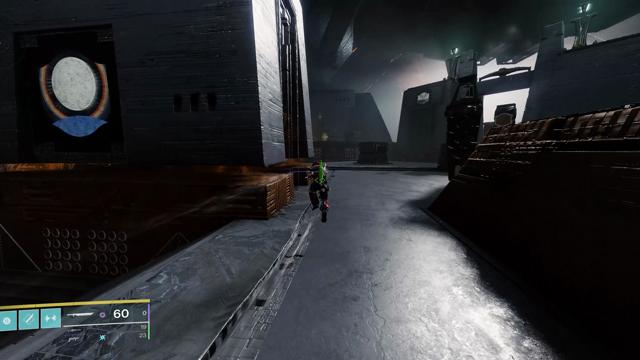traveler: (37, 50, 114, 138)
